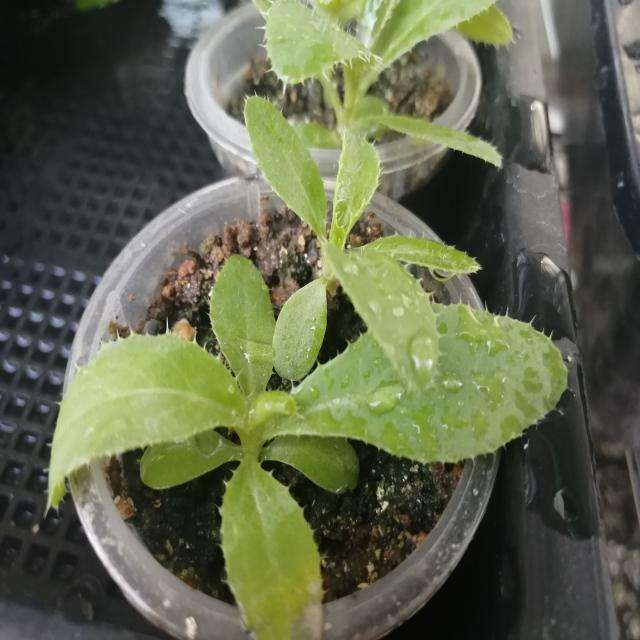field_thistle: (24, 285, 544, 626), (217, 103, 526, 378)
